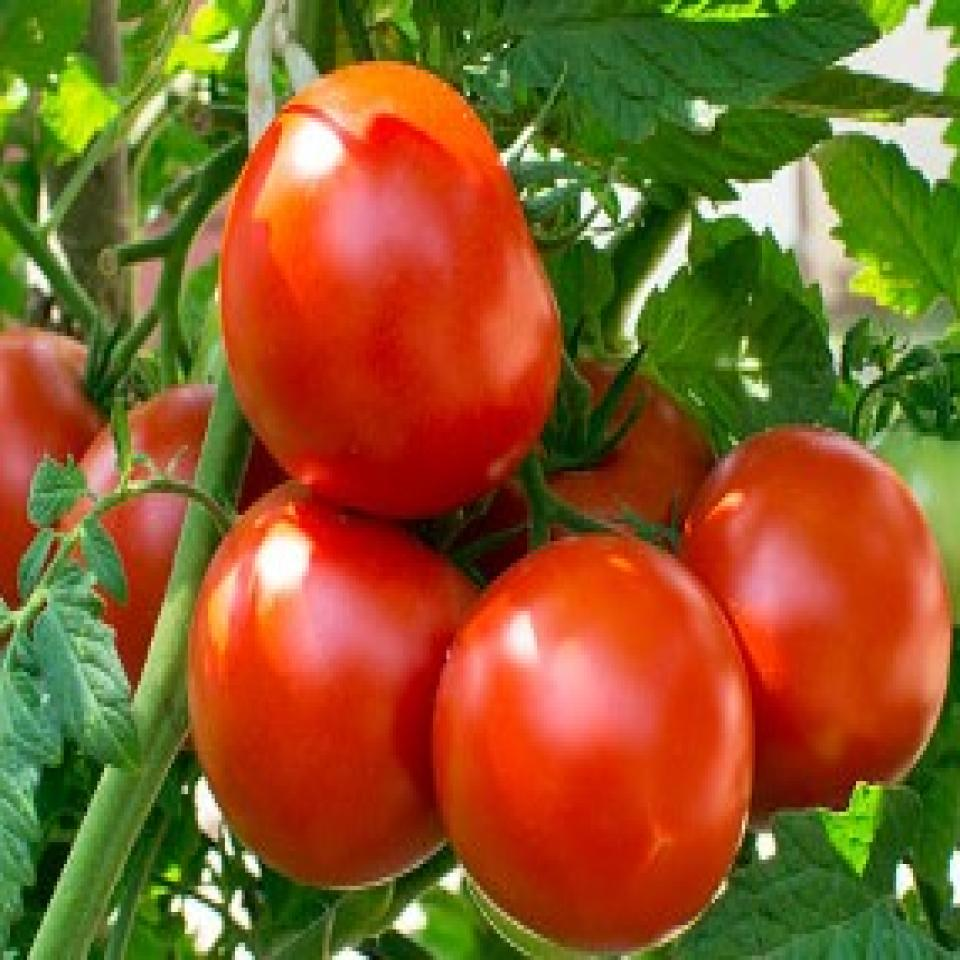Healthy: (236, 35, 577, 522), (428, 537, 761, 960), (185, 479, 472, 960), (670, 420, 955, 828)
